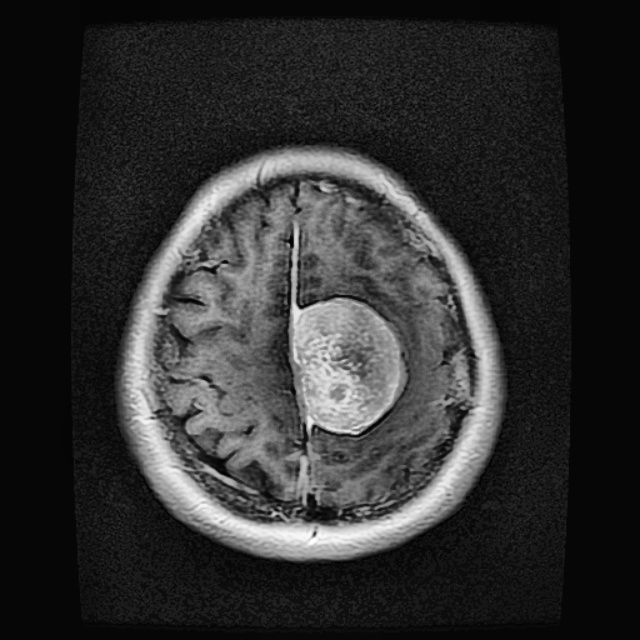Pituitary: (288, 297, 407, 434)
